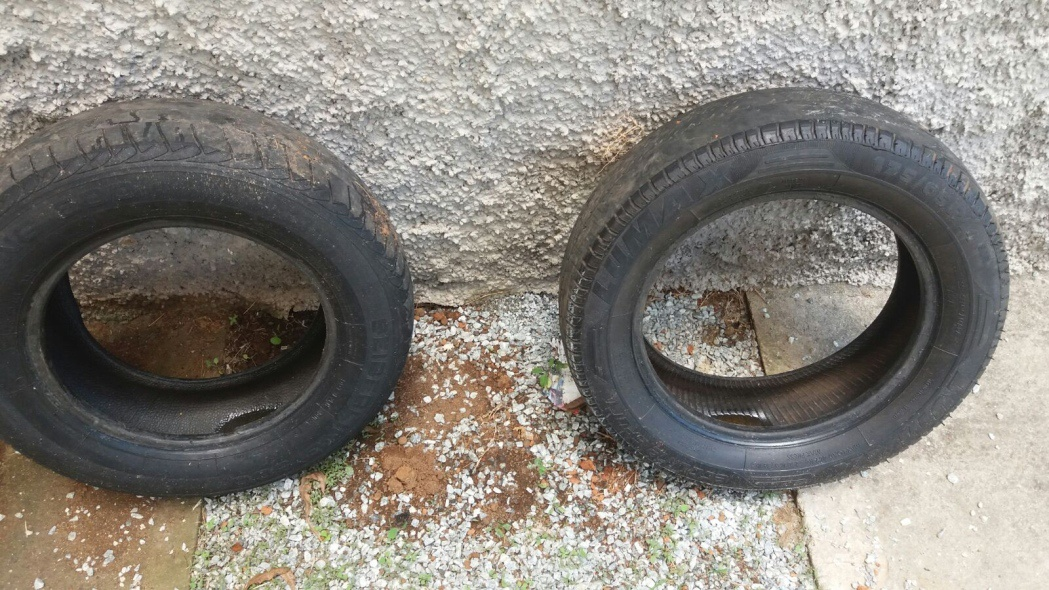tire: (557, 86, 1010, 493), (1, 96, 418, 501)
